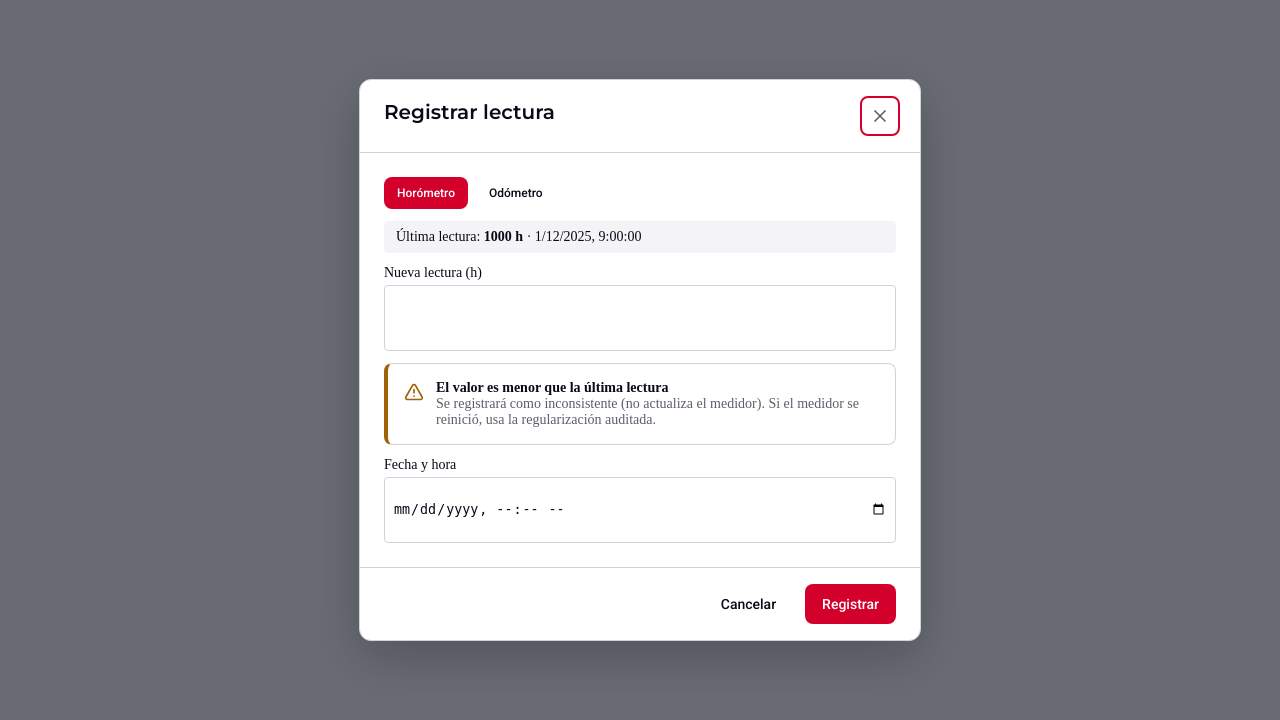
Test: Captura rápida de lectura › lectura VÁLIDA: guarda y muestra feedback con la próxima rutina y el faltante
Type "1185" into the field labelled "Nueva lectura (h)".
click(640, 318); type("1185")  # box x1=384 y1=285 x2=896 y2=351
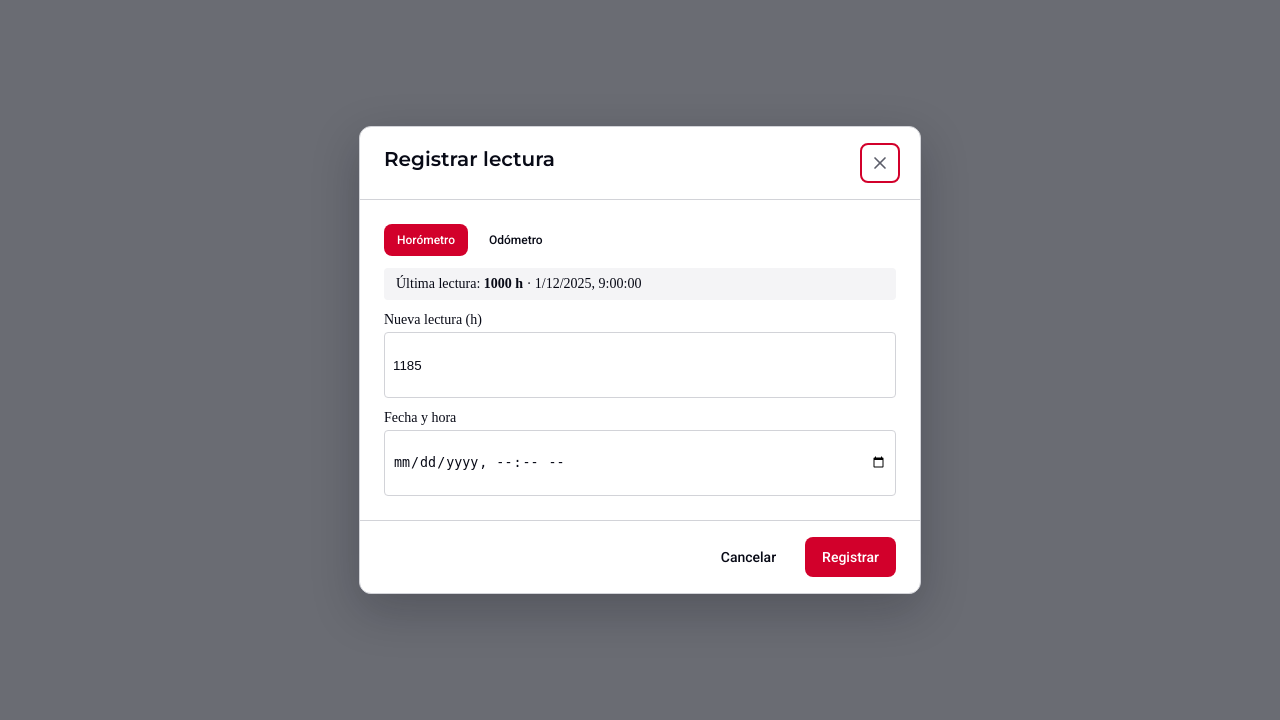
Type "2026-01-01T08:00" into the field labelled "Fecha y hora".
click(640, 463); type("2026-01-01T08:00")  # box x1=384 y1=430 x2=896 y2=496
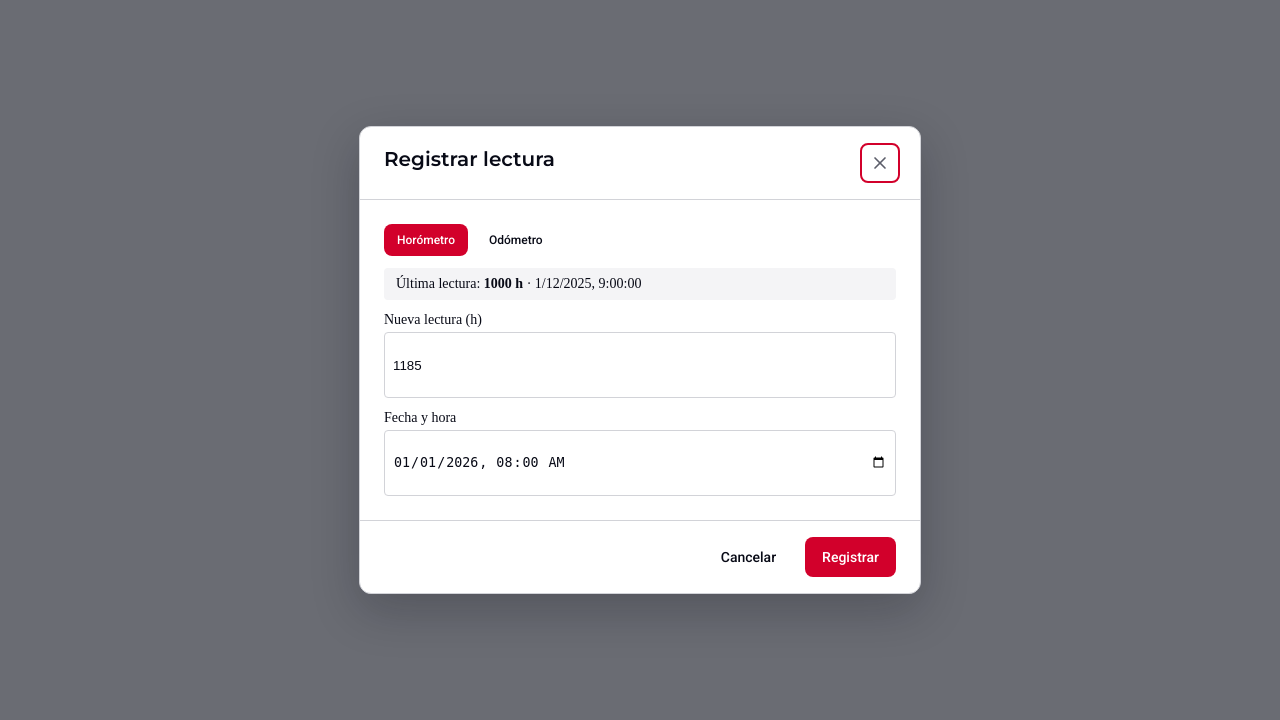
Click the button "Registrar".
click(851, 557)  # box x1=805 y1=537 x2=896 y2=577
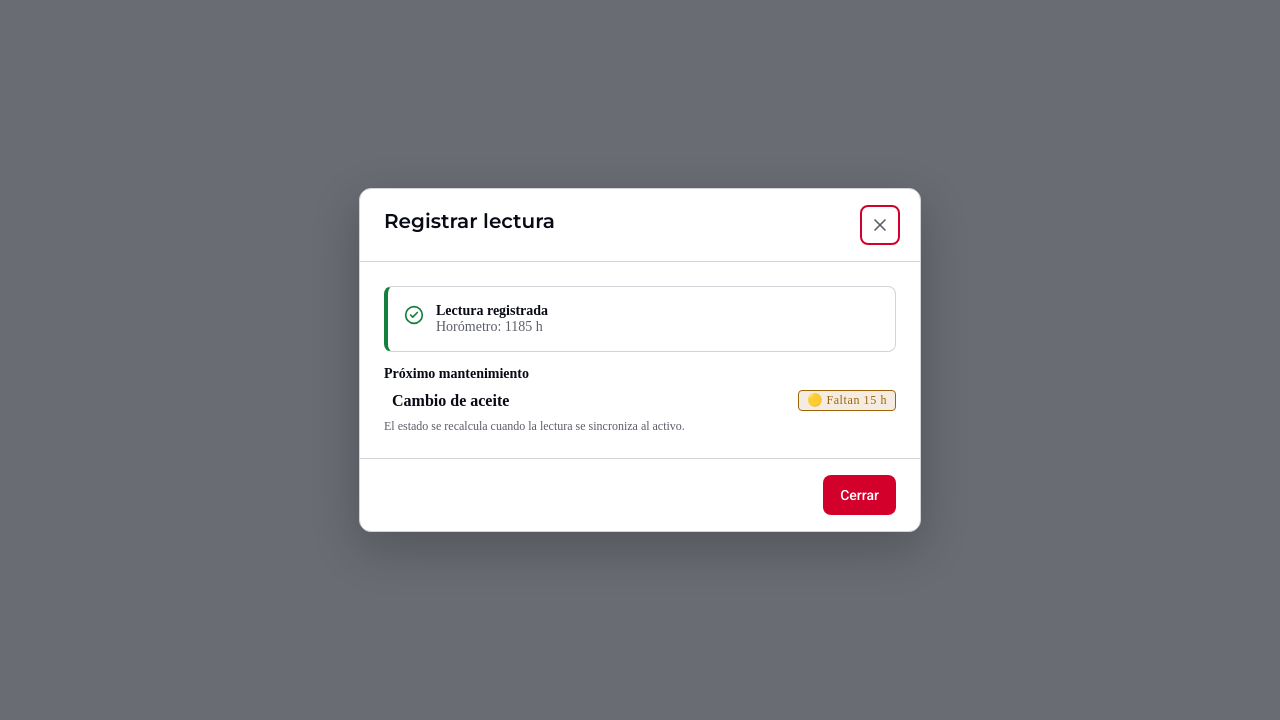
Result: the element with test id "lectura-feedback" is shown at x1=384 y1=286 x2=896 y2=434
Result: the text "Lectura registrada" is shown at x1=436 y1=303 x2=548 y2=318
Result: the text "Cambio de aceite" is shown at x1=392 y1=392 x2=509 y2=410
